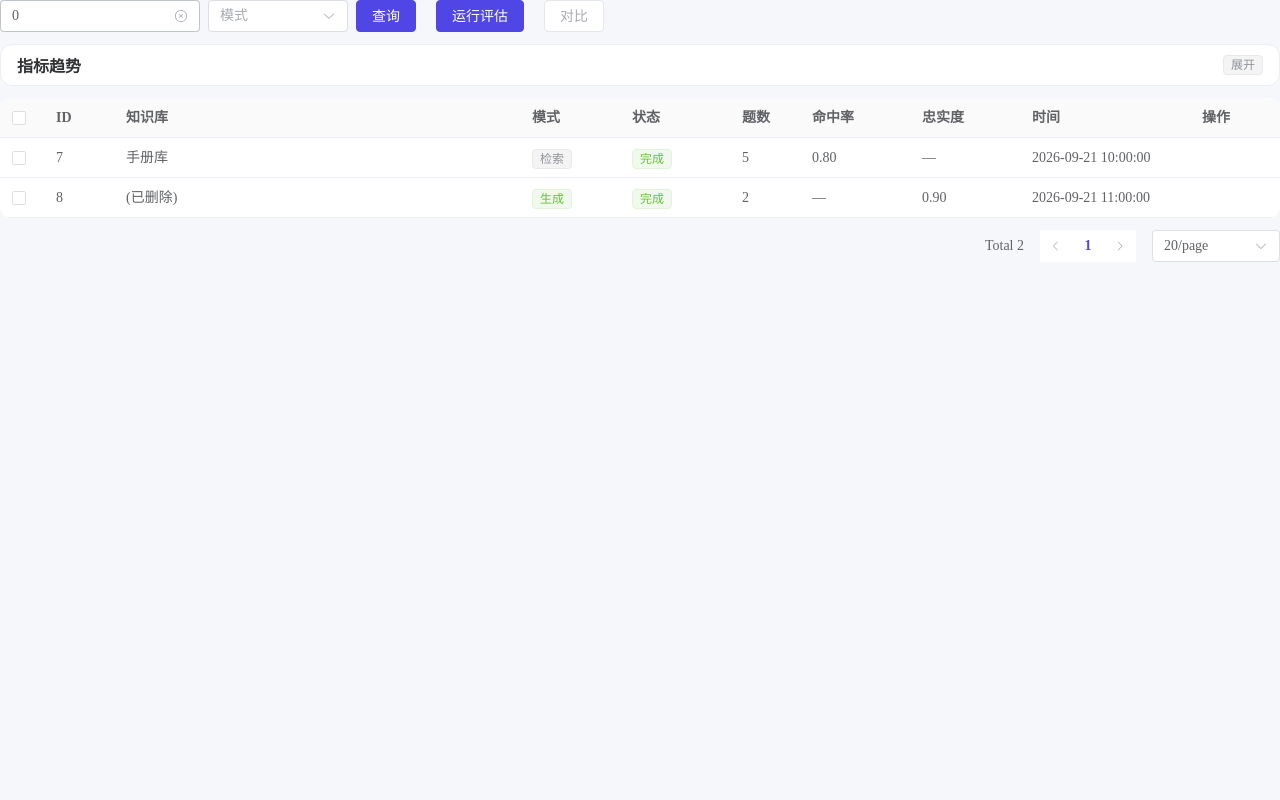
Test case: EvalPage › detail shows em-dash for unmeasured scores, red 0.00 for measured zero
This screenshot has width=1280, height=800.
Click the row "7 手册库 检索 完成 5 0.80 — 2026-09-21 10:00:00" at (640, 158), box [0, 138, 1279, 178]
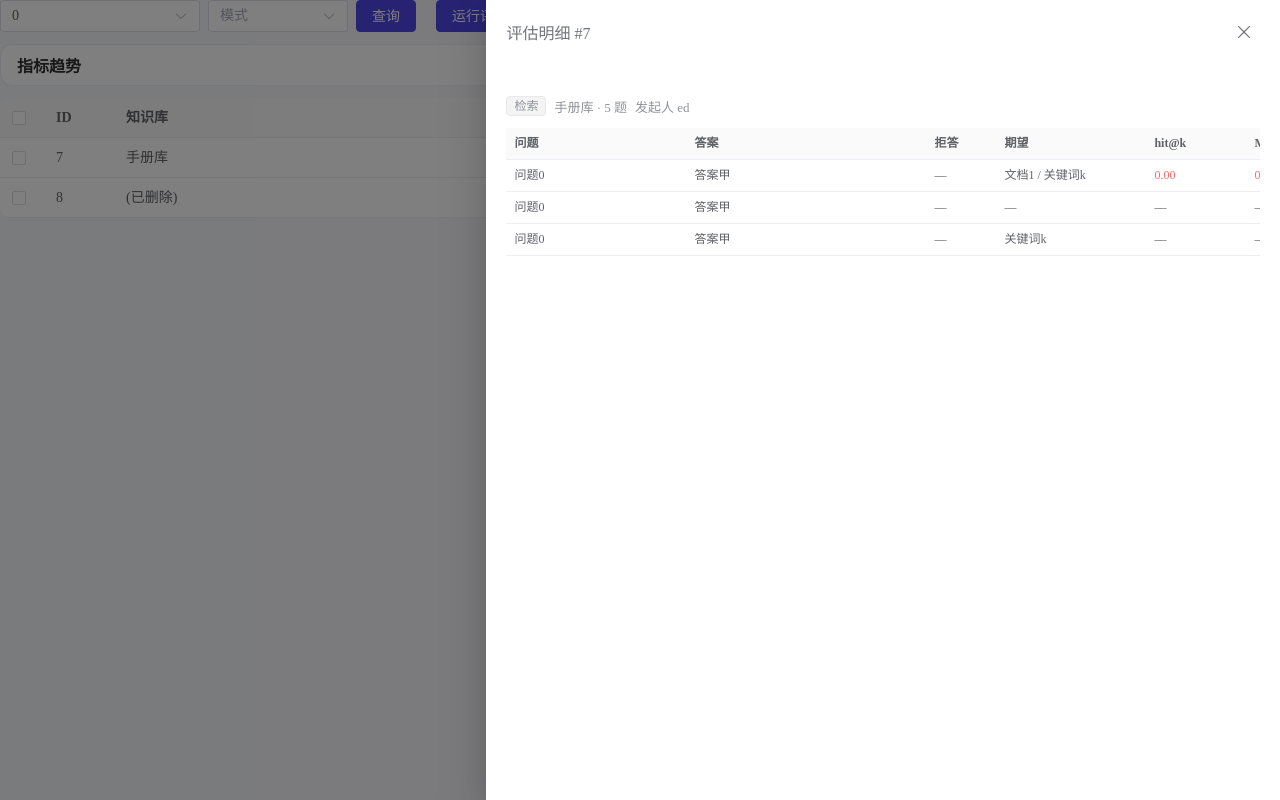
expect the row "问题0 答案甲 — 文档1 / 关键词k 0.00 0.00 1.00" is shown: met, box [506, 160, 1260, 192]
expect the 1st text "0.00" is shown: met, box [1154, 168, 1175, 182]
expect the row "问题0 答案甲 — — — — —" is shown: met, box [506, 192, 1260, 224]
